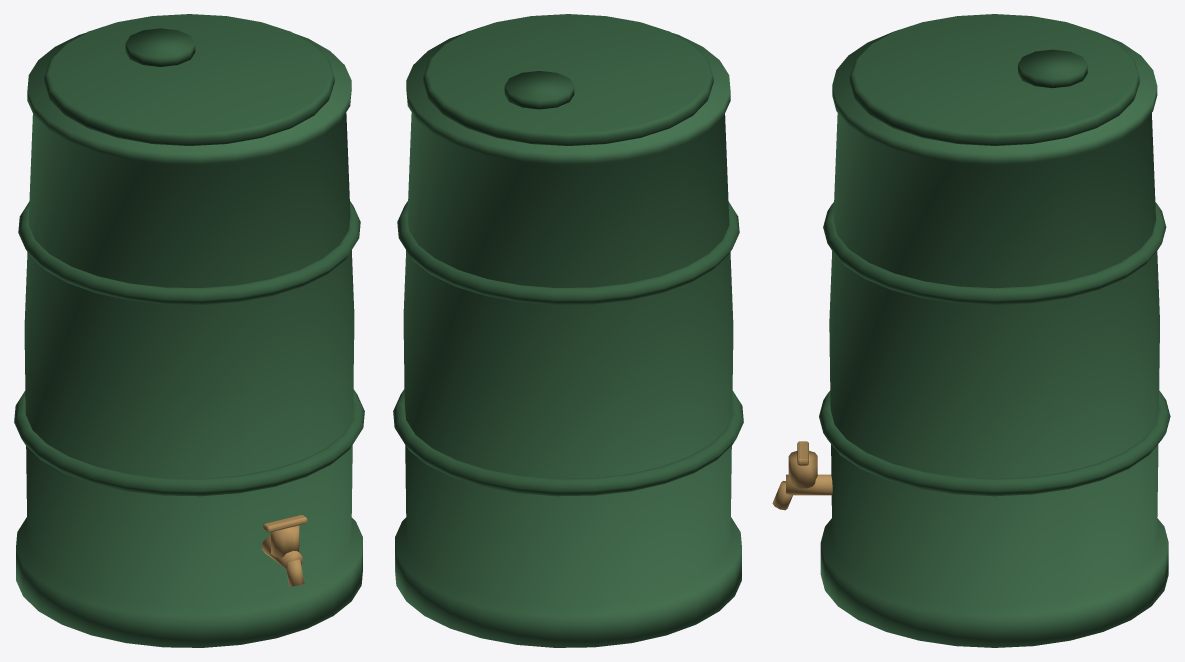
The model's file is rainBarrel.glb.
3 renders of one model, left to right at view 1: azimuth 30°, elevation 25°; view 2: azimuth 150°, elevation 25°; view 3: azimuth 270°, elevation 25°, orthographic.
Visible parts, largest first — view 1: rainBarrel; view 2: rainBarrel; view 3: rainBarrel.
Part boxes in pixels (x1,y1,x2,y2): rainBarrel: (14,14,364,647); rainBarrel: (393,14,743,647); rainBarrel: (772,14,1170,647).
Size of the model in its own units: 0.606 by 0.97 by 0.6861.
